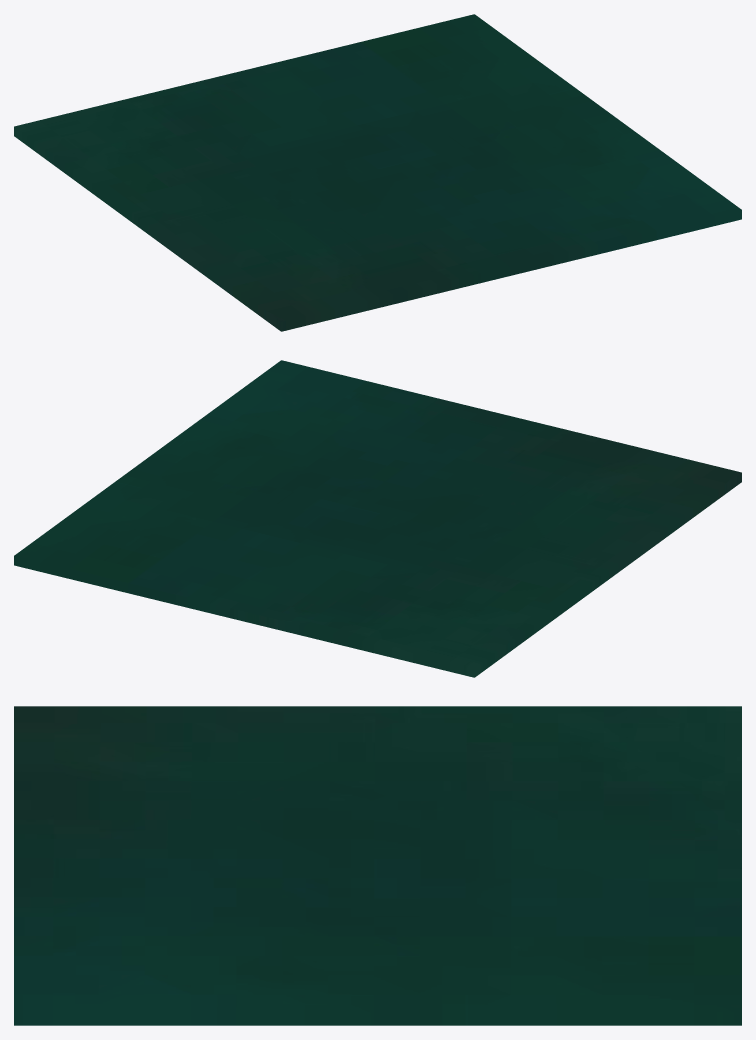
Rendered from z16-10487-25324-h0-yup-uvflip-v3-world.glb.
3 views of the same model, one above another, from view 1: azimuth 30°, elevation 25°; view 2: azimuth 150°, elevation 25°; view 3: azimuth 270°, elevation 25° (orthographic). The views are drawn at different scales.
Size of the model in its own units: 483 by 9.6 by 485.
Materials: 1 (1 with a texture image).
